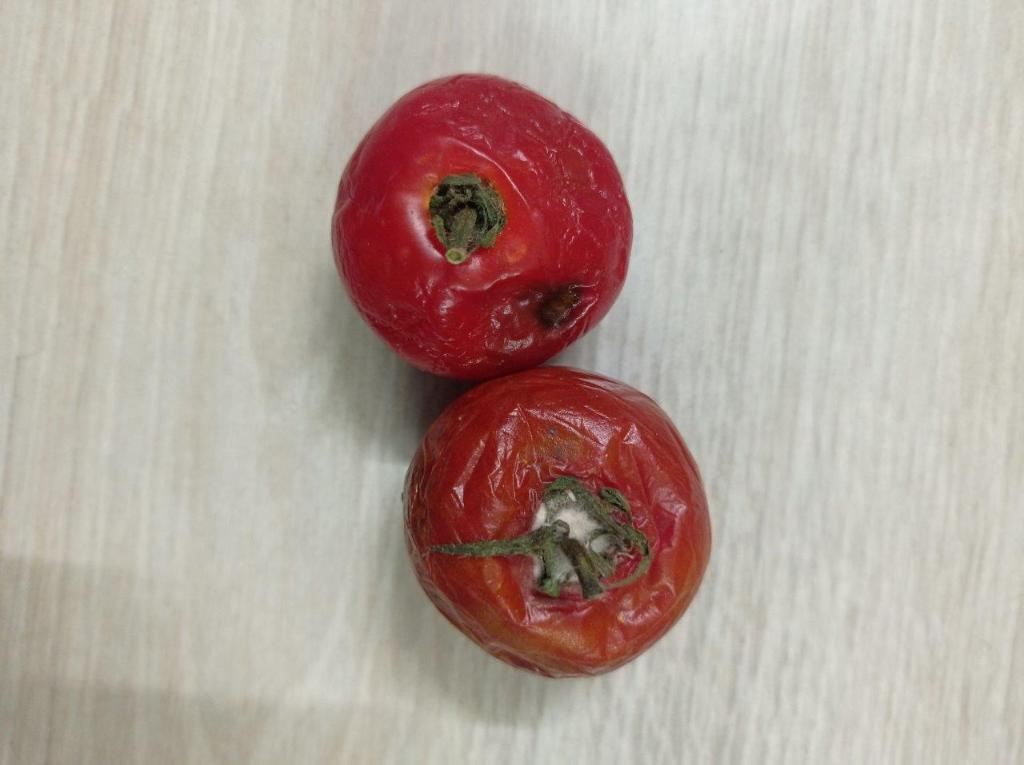bruise_discoloration: (445, 600, 606, 675), (480, 278, 602, 359), (517, 428, 586, 462), (532, 285, 583, 329), (483, 559, 504, 595)
rot_mold_decay: (522, 493, 630, 598), (537, 286, 582, 329)
tomato: (405, 367, 710, 677), (333, 74, 632, 380)
